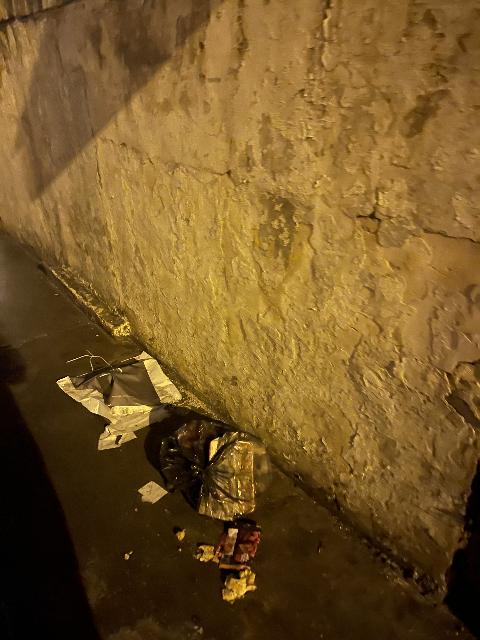Other: (57, 352, 181, 449), (197, 518, 261, 602), (138, 481, 167, 504)
Recyclable -Grey-: (160, 419, 268, 521)
